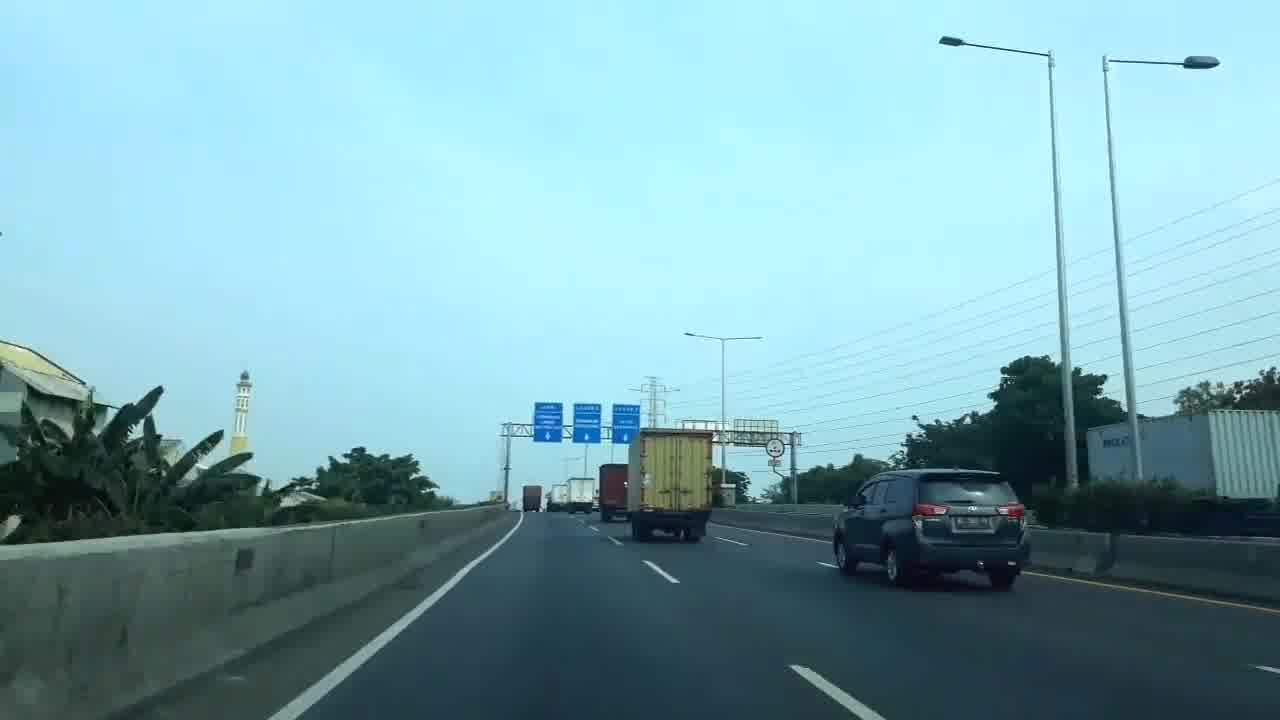plate_positive: (954, 516, 991, 529)
